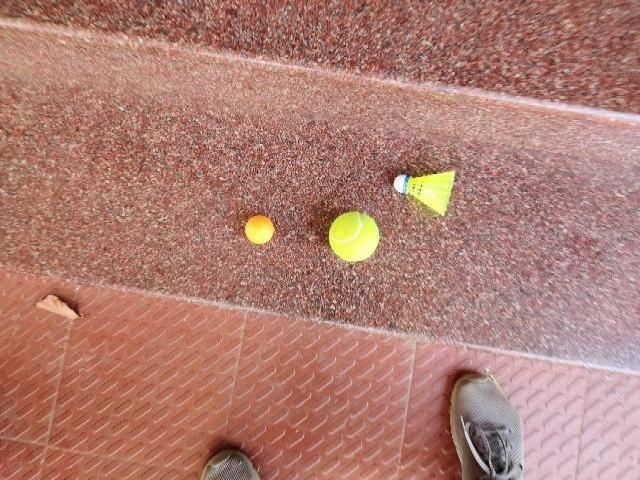tennis-ball: (328, 211, 380, 262)
